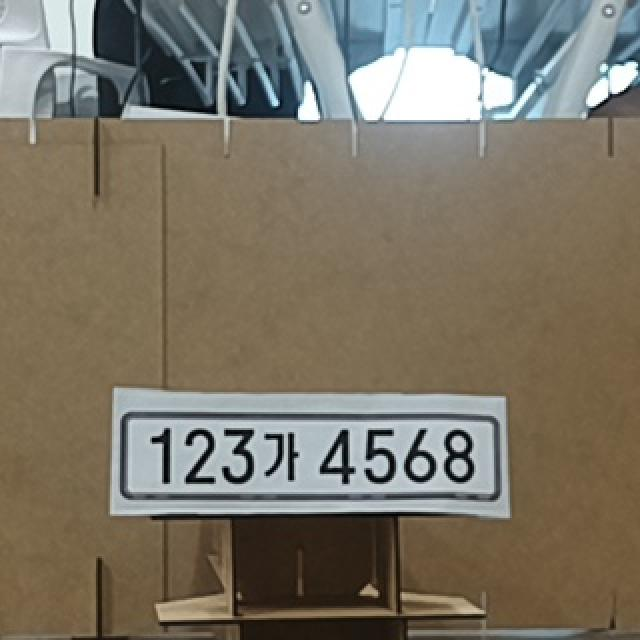normal: (120, 409, 498, 502)
